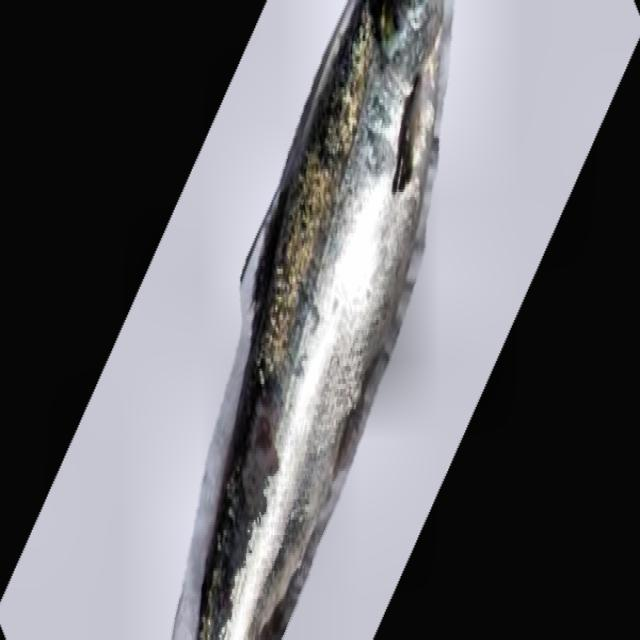mild_red: (194, 0, 446, 637)
